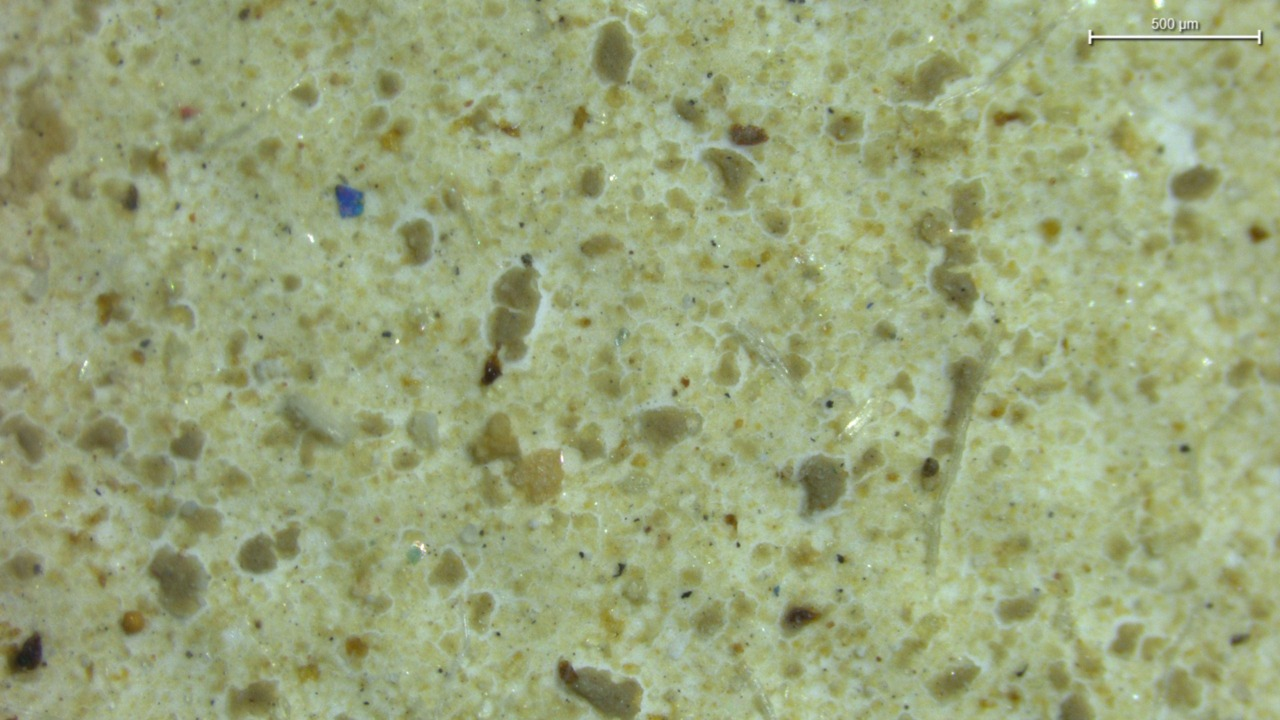microplastic_fragment: (283, 393, 354, 445), (407, 411, 438, 450), (335, 184, 364, 218)
